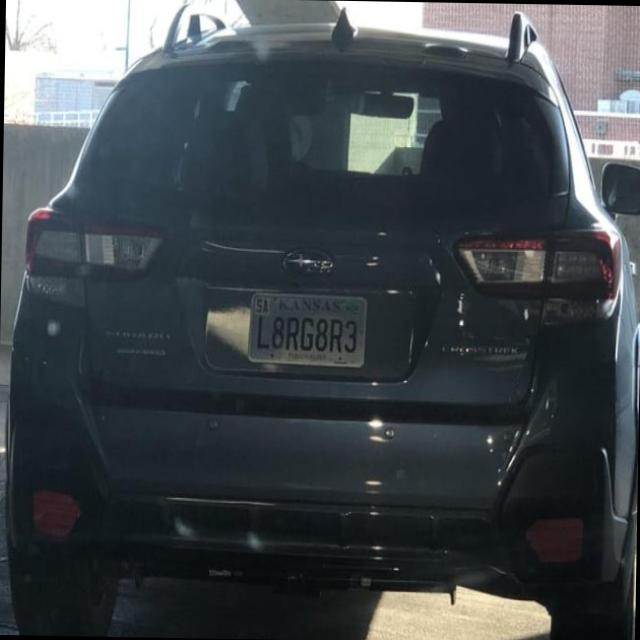LicensePlate: (248, 293, 367, 369)
